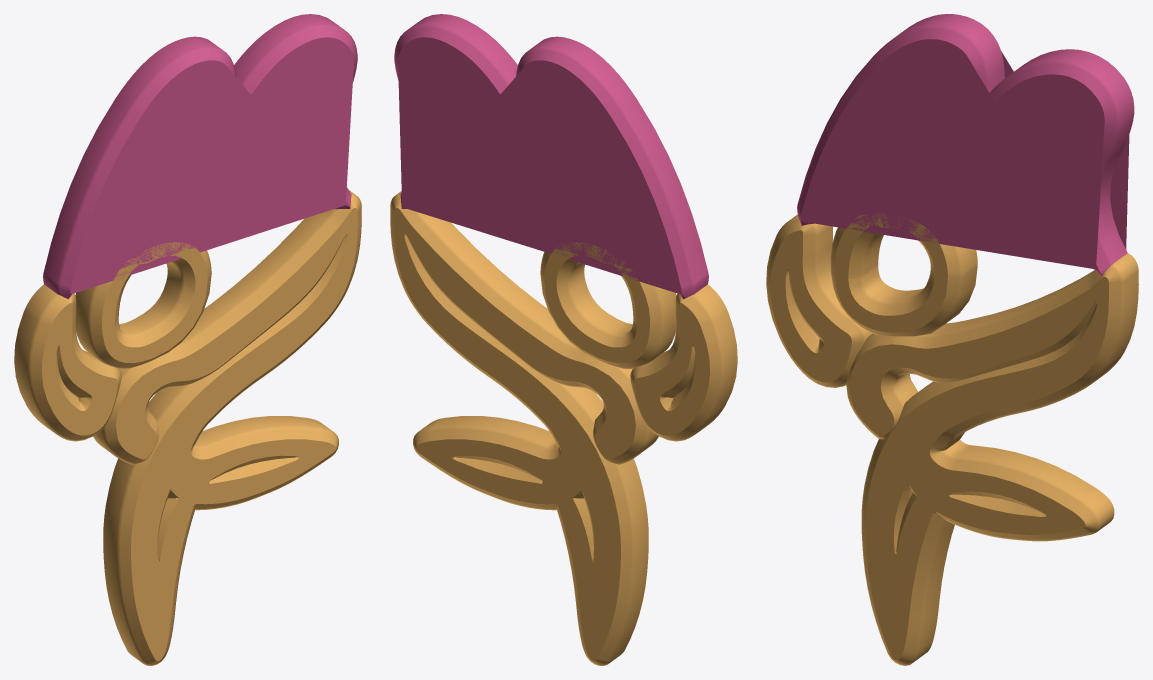
Rendered from masfit.fbx.
3 renders of one model, left to right at view 1: azimuth 30°, elevation 25°; view 2: azimuth 150°, elevation 25°; view 3: azimuth 330°, elevation 25°, orthographic. The views are drawn at different scales.
Visible parts, largest first — view 1: polySurface1; view 2: polySurface1; view 3: polySurface1.
Boxes of the visible parts, box(x1,y1,x2,y2) form: polySurface1: box(14, 14, 361, 665); polySurface1: box(390, 14, 737, 665); polySurface1: box(766, 14, 1138, 665).
Size of the model in its own units: 3.62 by 6.29 by 0.45.
